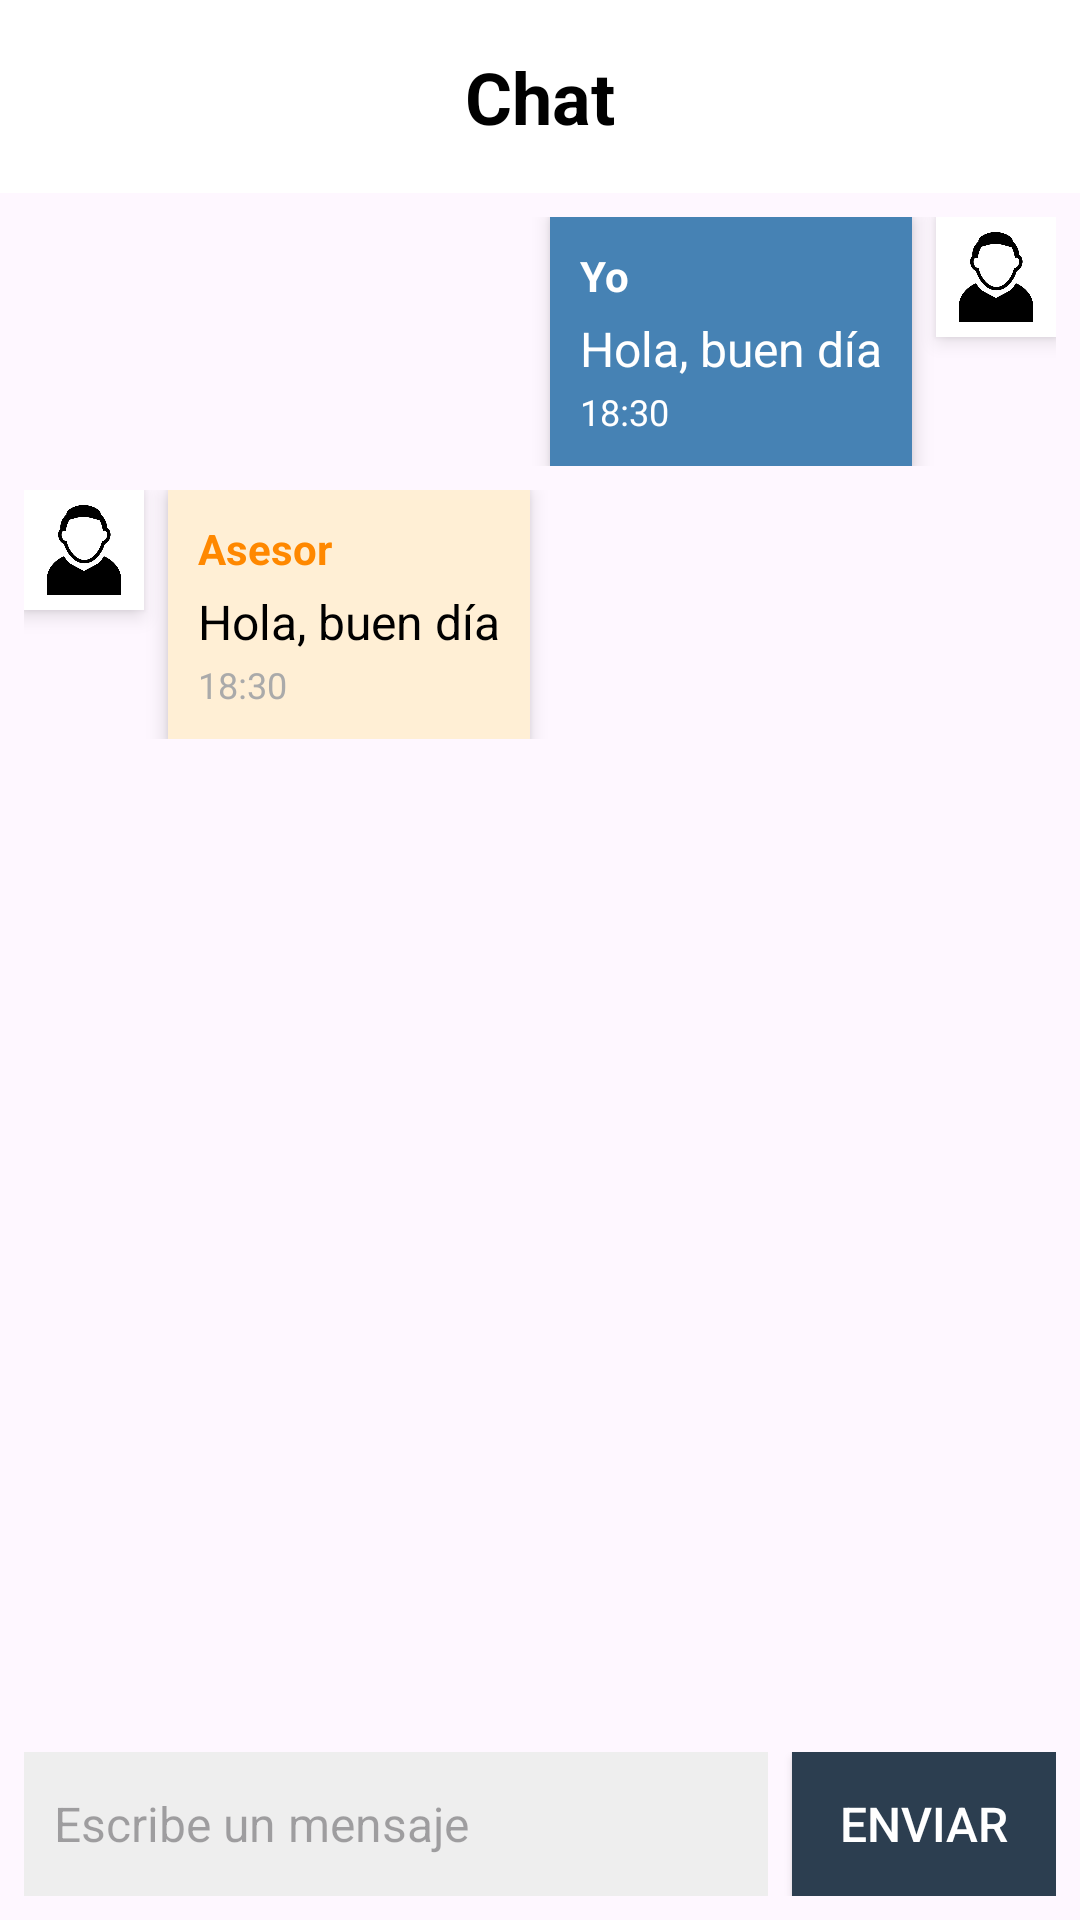

Point at icon controls on the screen. Image size 1080*1920, points as (x=x, y=y).
Icono del Usuario: (x=996, y=277)
